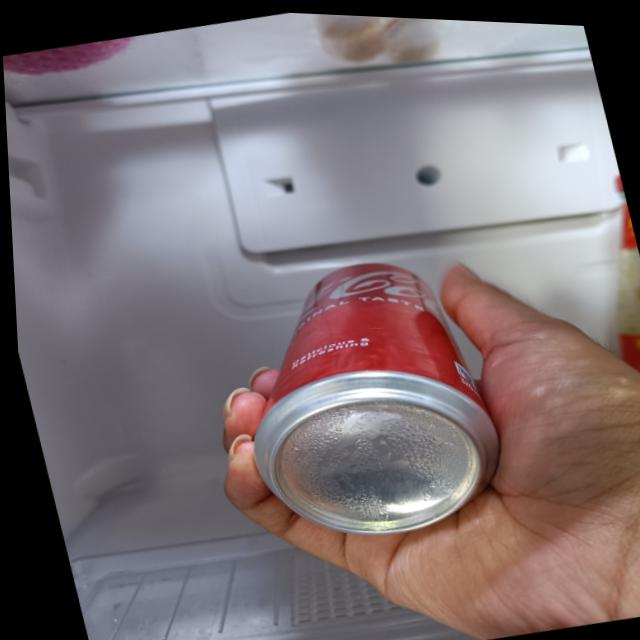coke: (210, 238, 505, 557)
